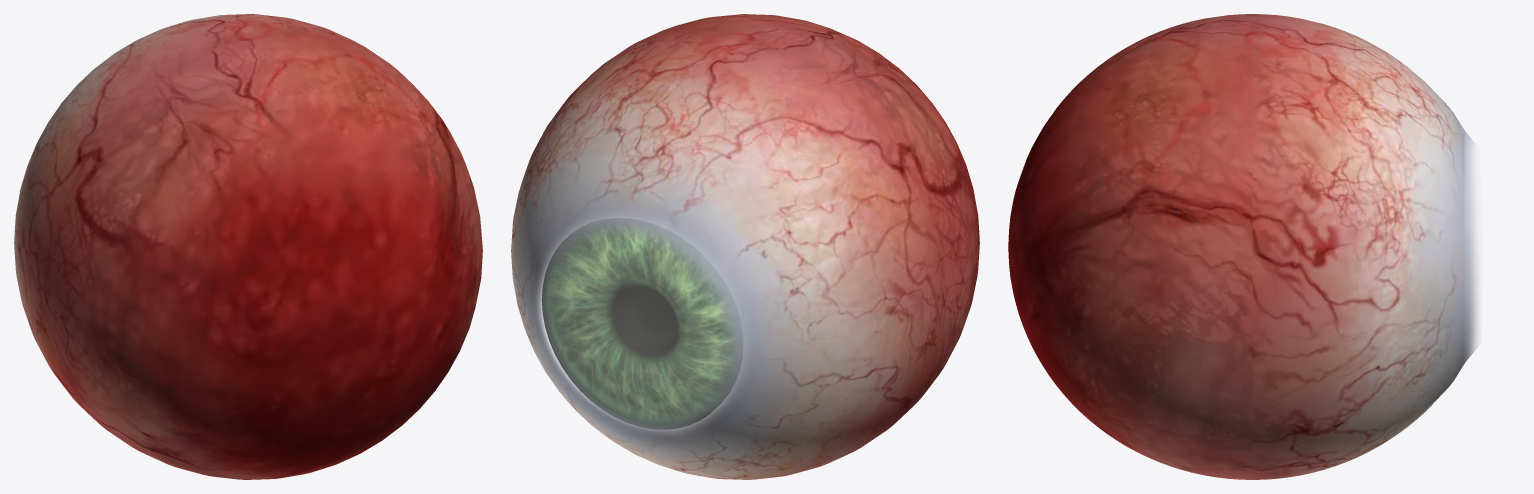
Rendered from PRP_EyeModel.glb.
3 renders of one model, left to right at view 1: azimuth 30°, elevation 25°; view 2: azimuth 150°, elevation 25°; view 3: azimuth 270°, elevation 25°, orthographic.
Parts seen in each view (by area): view 1: Sclera_Sclera_001_Material_0; view 2: Sclera_Sclera_001_Material_0, Iris_Iris_001_Material_0; view 3: Sclera_Sclera_001_Material_0.
Part boxes in pixels (left/top/right/bottom): Sclera_Sclera_001_Material_0: left=14, top=14, right=482, bottom=479; Sclera_Sclera_001_Material_0: left=511, top=14, right=979, bottom=479; Iris_Iris_001_Material_0: left=541, top=218, right=741, bottom=429; Sclera_Sclera_001_Material_0: left=1008, top=14, right=1479, bottom=479.
Size of the model in its own units: 229 by 229 by 251.
2 materials, 2 textured.
